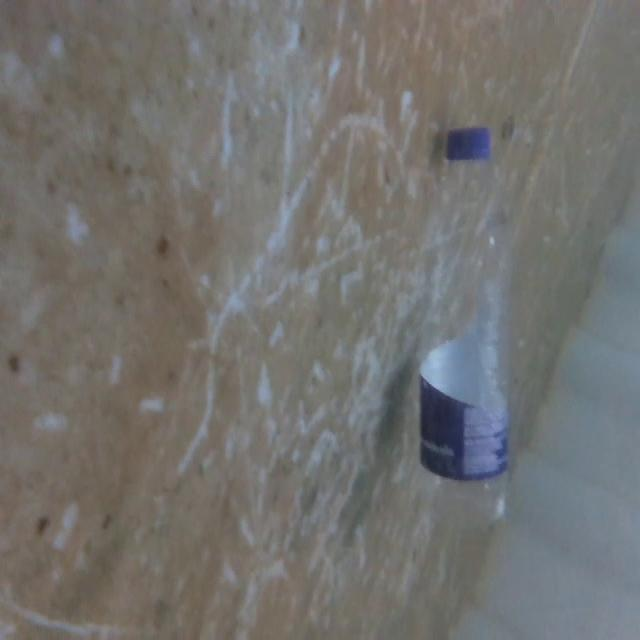plastic bottle: (416, 113, 521, 536)
